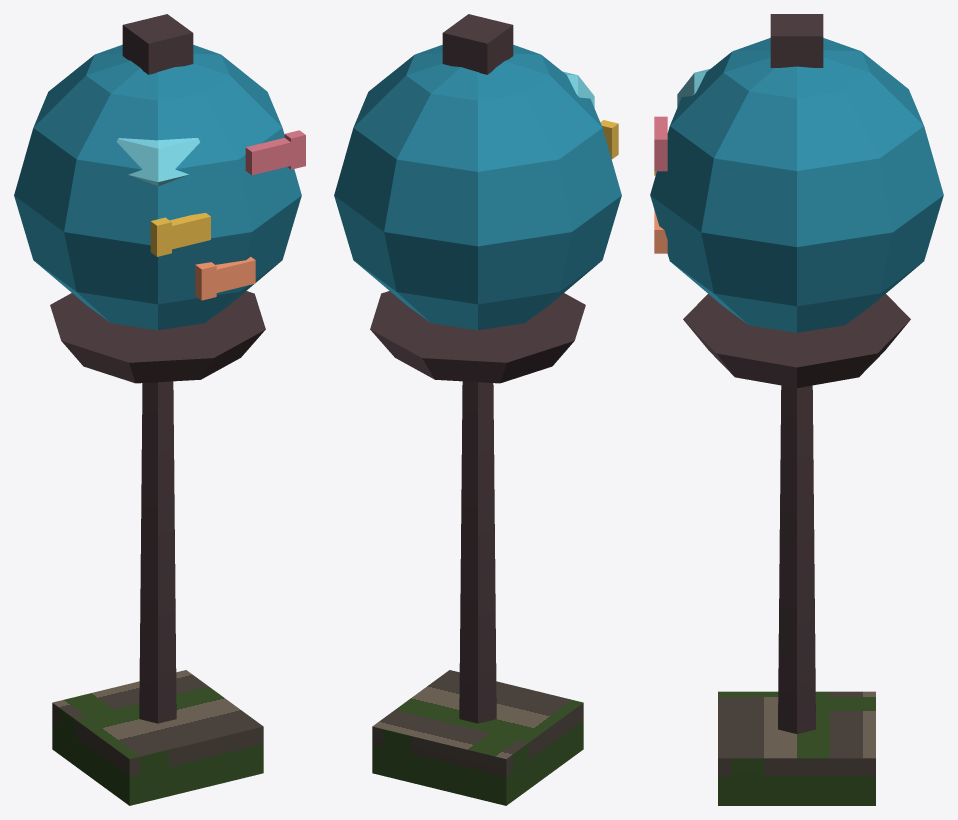
The model's file is fish_orb.glb.
3 renders of one model, left to right at view 1: azimuth 30°, elevation 25°; view 2: azimuth 150°, elevation 25°; view 3: azimuth 270°, elevation 25°, orthographic. The views are drawn at different scales.
Visible parts, largest first — view 1: fish_orb; view 2: fish_orb; view 3: fish_orb.
Boxes of the visible parts, x1,y1,x2,y2 form: fish_orb: (14,14,305,805); fish_orb: (334,14,621,805); fish_orb: (650,14,943,805).
Bounding box in the file's own units: 0.6595 × 1.88 × 0.6697.
Materials: 3 (1 with a texture image).
